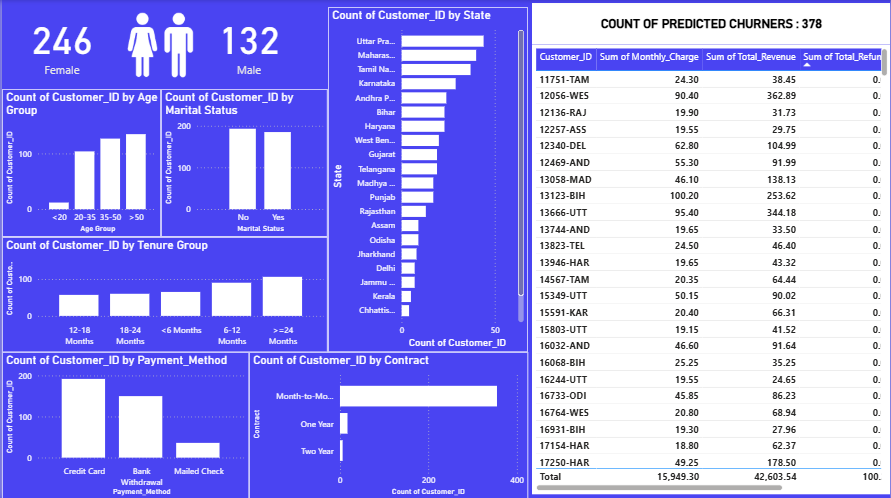

The page's visual inventory and layout, read from the dashboard file:
{"tool":"powerbi","page":{"name":"Churn Prediction","canvas":[1280,720],"ordinal":1},"visuals":[{"type":"tableEx","fields":{"Values":["Predictions.Customer_ID","Sum(Predictions.Monthly_Charge)","Sum(Predictions.Total_Revenue)","Sum(Predictions.Total_Refunds)","Sum(Predictions.Number_of_Referrals)"]},"box":[763.2,64.8,517,646.6],"z":0},{"type":"card","fields":{"Values":["tbl_measures.Title Predicted Churner"]},"box":[763.2,4.3,517,60.5],"z":1000},{"type":"card","fields":{"Values":["tbl_measures.Count Predicted Churner"]},"box":[0,0,172.8,123.8],"z":2000},{"type":"clusteredColumnChart","fields":{"Category":["mapping_AgeGrp.Age Group"],"Y":["CountNonNull(Predictions.Customer_ID)"]},"box":[0,128.2,229,213.1],"z":3000},{"type":"clusteredColumnChart","fields":{"Y":["CountNonNull(Predictions.Customer_ID)"],"Category":["Predictions.Married"]},"box":[229,128.2,240.5,213.1],"z":4000},{"type":"clusteredColumnChart","fields":{"Category":["mapping_TenureGrp.Tenure Group"],"Y":["CountNonNull(Predictions.Customer_ID)"]},"box":[0,341.3,469.4,165.6],"z":5000},{"type":"clusteredColumnChart","fields":{"Y":["CountNonNull(Predictions.Customer_ID)"],"Category":["Predictions.Payment_Method"]},"box":[0,506.9,355.7,213.1],"z":6000},{"type":"clusteredBarChart","fields":{"Category":["Predictions.Contract"],"Y":["CountNonNull(Predictions.Customer_ID)"]},"box":[355.7,506.9,401.8,213.1],"z":7000},{"type":"clusteredBarChart","fields":{"Category":["Predictions.State"],"Y":["CountNonNull(Predictions.Customer_ID)"]},"box":[469.4,10.1,288,496.8],"z":8000},{"type":"card","fields":{"Values":["tbl_measures.Count Predicted Churner"]},"box":[269.3,0,172.8,123.8],"z":9000},{"type":"image","box":[159.8,0,136.8,128.2],"z":10000}]}

Visuals, with their boxes in screenshot pixels (x1, y1, x2, y2), scaled from the page's 1280x720 canvas onto the 891x498 screenshot:
tableEx - Predictions.Customer_ID x Sum(Predictions.Monthly_Charge): <box>531,45,890,492</box>
card - tbl_measures.Title Predicted Churner: <box>531,3,890,45</box>
card - tbl_measures.Count Predicted Churner: <box>0,0,120,86</box>
clusteredColumnChart - mapping_AgeGrp.Age Group x CountNonNull(Predictions.Customer_ID): <box>0,89,159,236</box>
clusteredColumnChart - CountNonNull(Predictions.Customer_ID) x Predictions.Married: <box>159,89,327,236</box>
clusteredColumnChart - mapping_TenureGrp.Tenure Group x CountNonNull(Predictions.Customer_ID): <box>0,236,327,351</box>
clusteredColumnChart - CountNonNull(Predictions.Customer_ID) x Predictions.Payment_Method: <box>0,351,248,497</box>
clusteredBarChart - Predictions.Contract x CountNonNull(Predictions.Customer_ID): <box>248,351,527,497</box>
clusteredBarChart - Predictions.State x CountNonNull(Predictions.Customer_ID): <box>327,7,527,351</box>
card - tbl_measures.Count Predicted Churner: <box>187,0,308,86</box>
image: <box>111,0,206,89</box>
